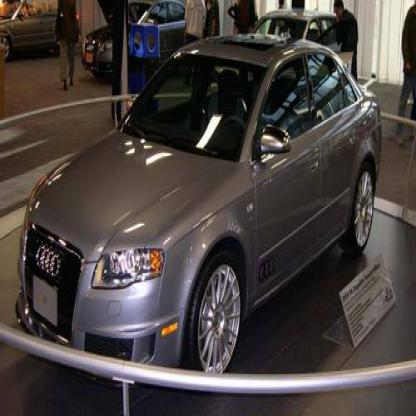Vehicle: (13, 38, 383, 372)
